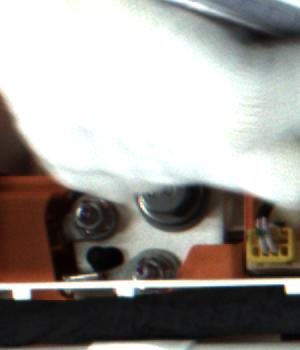screw_s: (75, 200, 120, 239), (134, 255, 177, 280)
